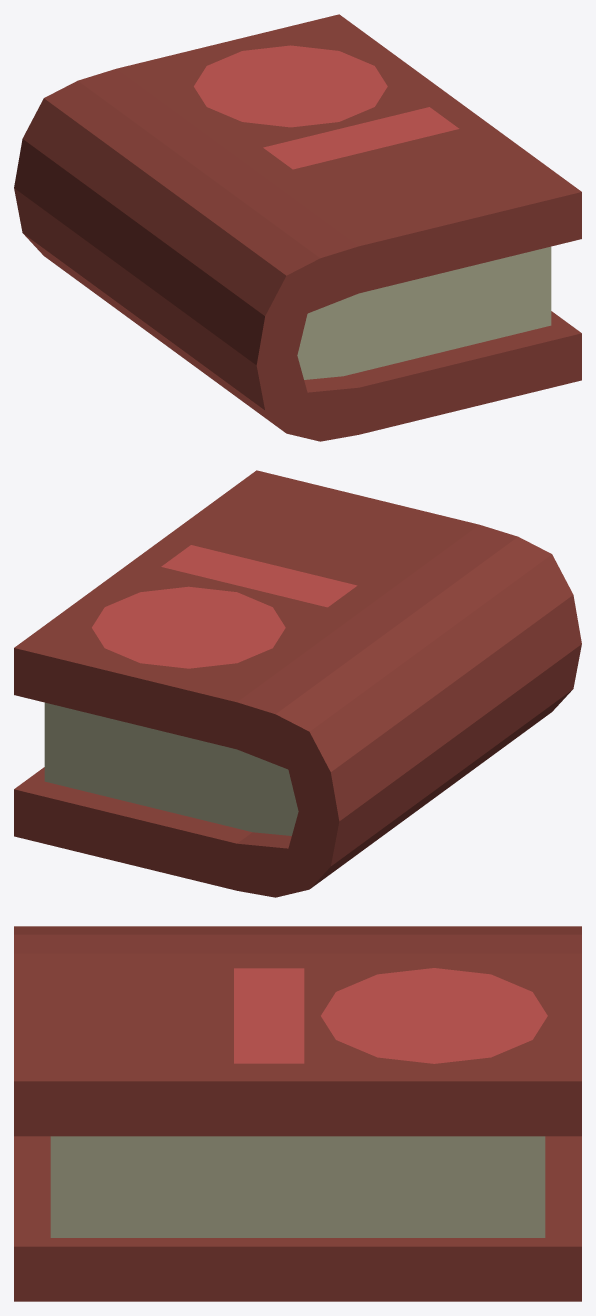
The model's file is Book_4_Red.fbx.
3 renders of one model, top to bottom at view 1: azimuth 30°, elevation 25°; view 2: azimuth 150°, elevation 25°; view 3: azimuth 270°, elevation 25°, orthographic. The views are drawn at different scales.
Parts seen in each view (by area): view 1: Book_4_Red_Part_1, Book_4_Red_Part_2, Book_4_Red_Part_3; view 2: Book_4_Red_Part_1, Book_4_Red_Part_2, Book_4_Red_Part_3; view 3: Book_4_Red_Part_1, Book_4_Red_Part_2, Book_4_Red_Part_3.
Part boxes in pixels (box(x1,y1,x2,y2)): Book_4_Red_Part_1: box(14, 14, 581, 441); Book_4_Red_Part_2: box(297, 246, 551, 379); Book_4_Red_Part_3: box(194, 45, 459, 169); Book_4_Red_Part_1: box(14, 470, 581, 897); Book_4_Red_Part_2: box(44, 702, 298, 835); Book_4_Red_Part_3: box(92, 545, 357, 668); Book_4_Red_Part_1: box(14, 926, 581, 1301); Book_4_Red_Part_2: box(50, 1136, 545, 1237); Book_4_Red_Part_3: box(234, 968, 547, 1063).
Size of the model in its own units: 27.09 by 15.1 by 35.
